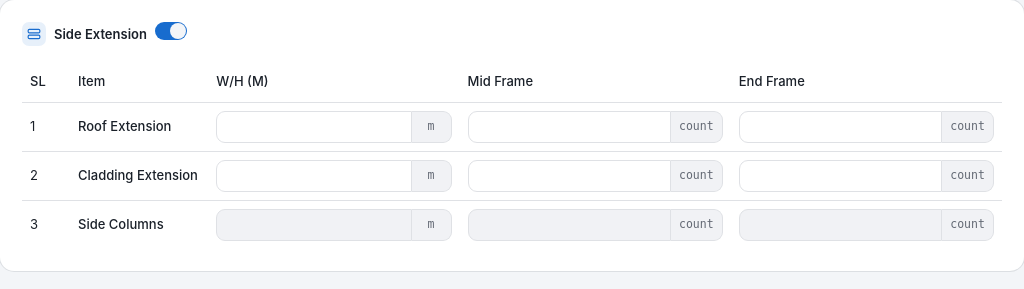
Test: SideExtension section › updates the mirrored Side Columns End Frame Count live when the cladding count changes
The width and height of the screenshot is (1024, 289).
Type "3" into the 6th number field.
click(840, 176); type("3")  # box top-left (739, 160), bottom-right (942, 192)
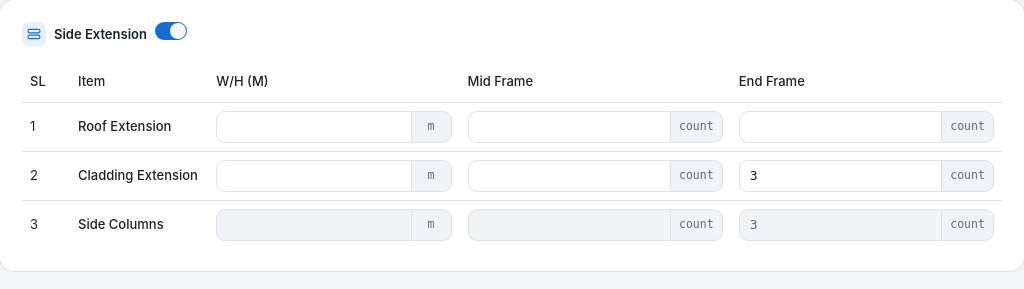
expect the 9th number field holds "3": met, box top-left (739, 208), bottom-right (942, 240)
